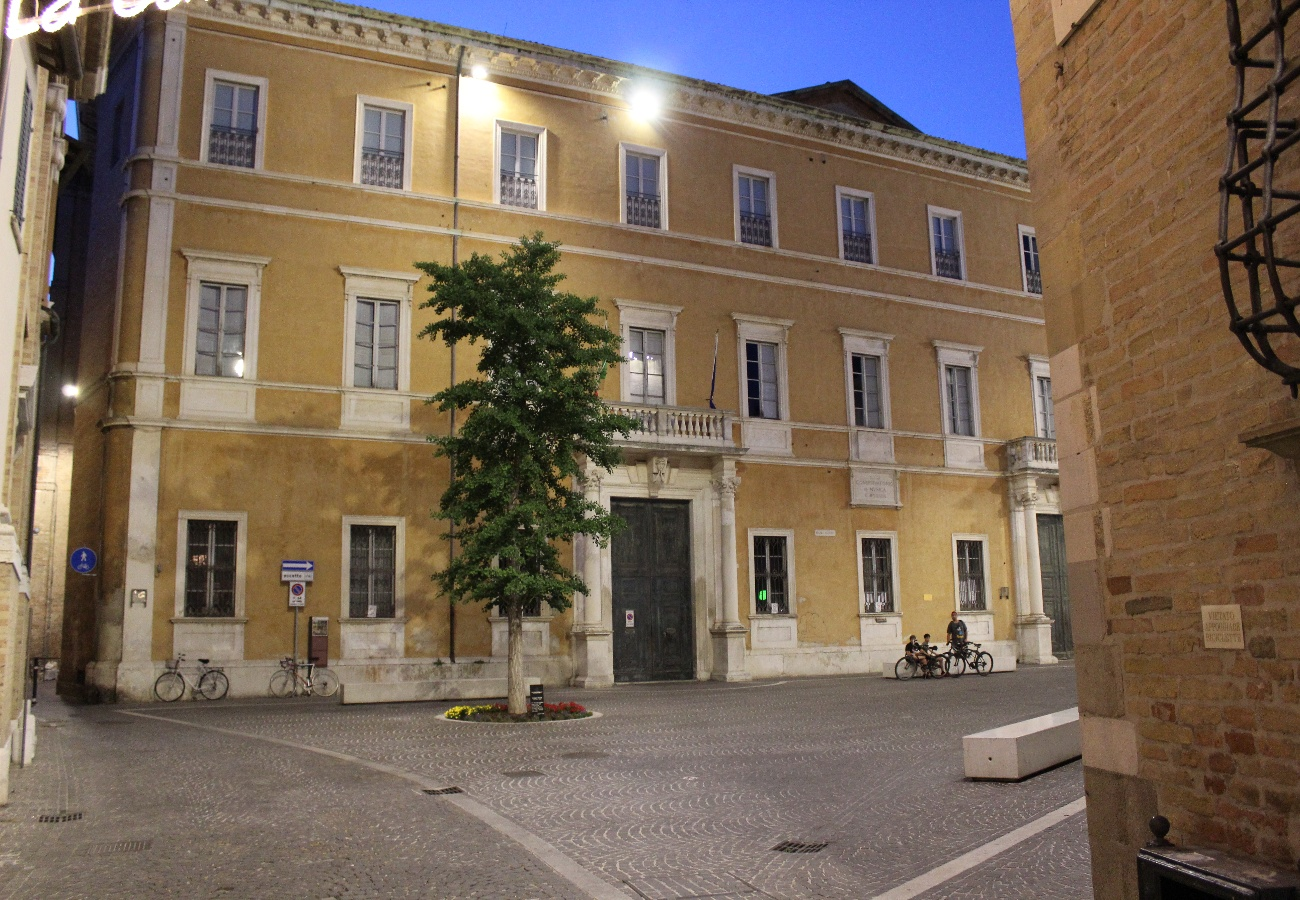Palazzo Olivieri: (85, 1, 1063, 711)
